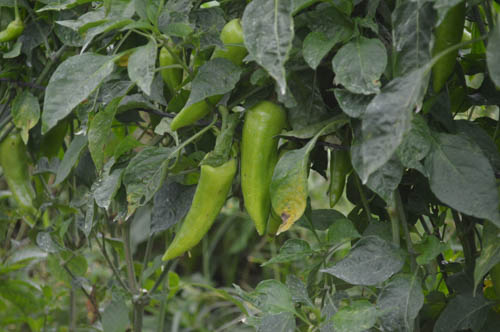ChiliPepper: (171, 20, 250, 128), (160, 159, 234, 256), (242, 104, 284, 234), (3, 136, 36, 216)
